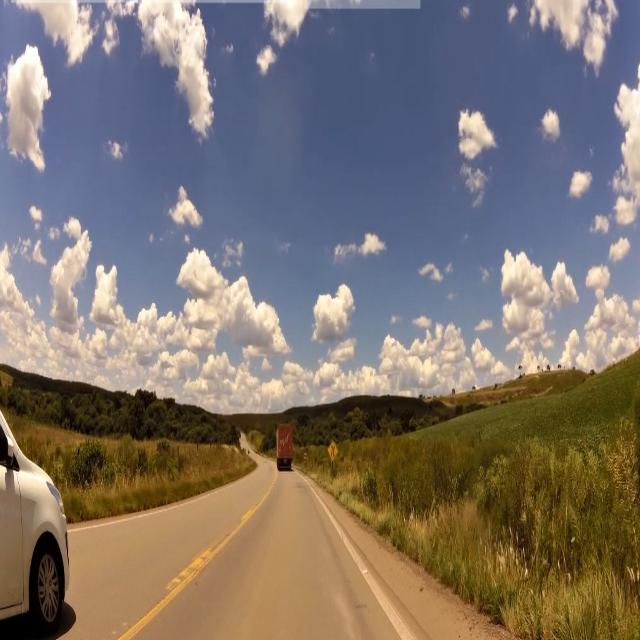A-22: (326, 439, 339, 463)
